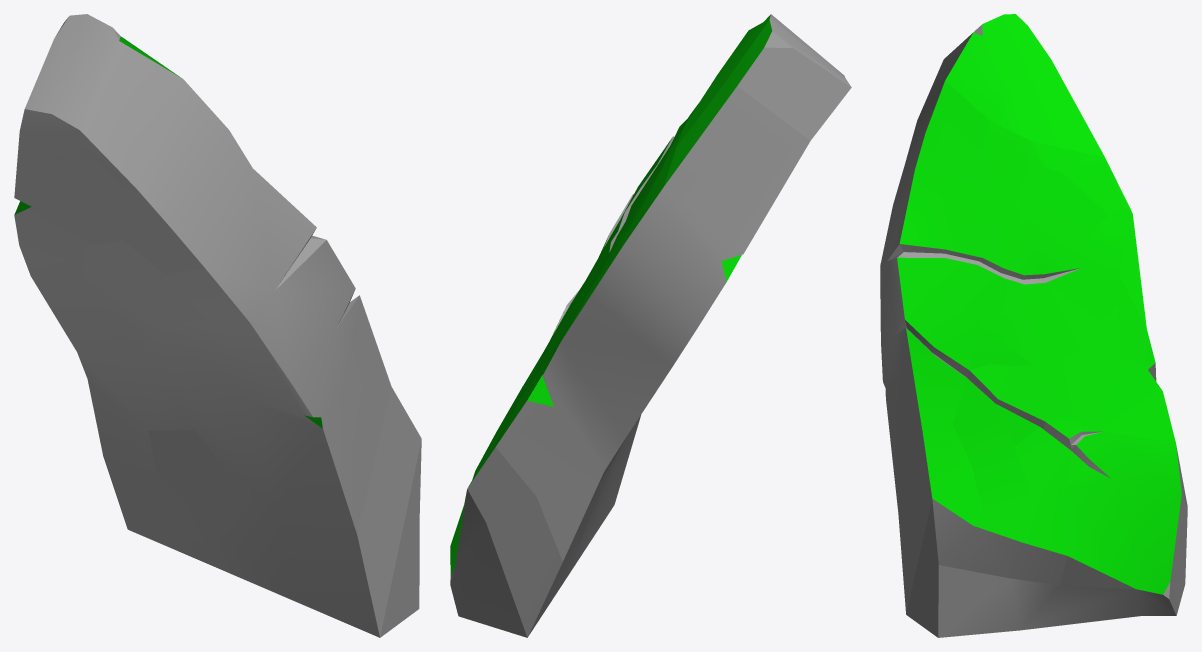
Rendered from rock_jungle_big_D.fbx.
The picture shows the model from 3 angles, left to right: view 1: azimuth 30°, elevation 25°; view 2: azimuth 150°, elevation 25°; view 3: azimuth 270°, elevation 25°; orthographic projection. The views are drawn at different scales.
Parts seen in each view (by area): view 1: rock_jungle_big_D; view 2: rock_jungle_big_D; view 3: rock_jungle_big_D.
Part boxes in pixels (x1,y1,x2,y2): rock_jungle_big_D: (14, 14, 421, 637); rock_jungle_big_D: (450, 14, 851, 637); rock_jungle_big_D: (880, 14, 1187, 637).
Bounding box in the file's own units: 85.42 × 140 × 76.64.
